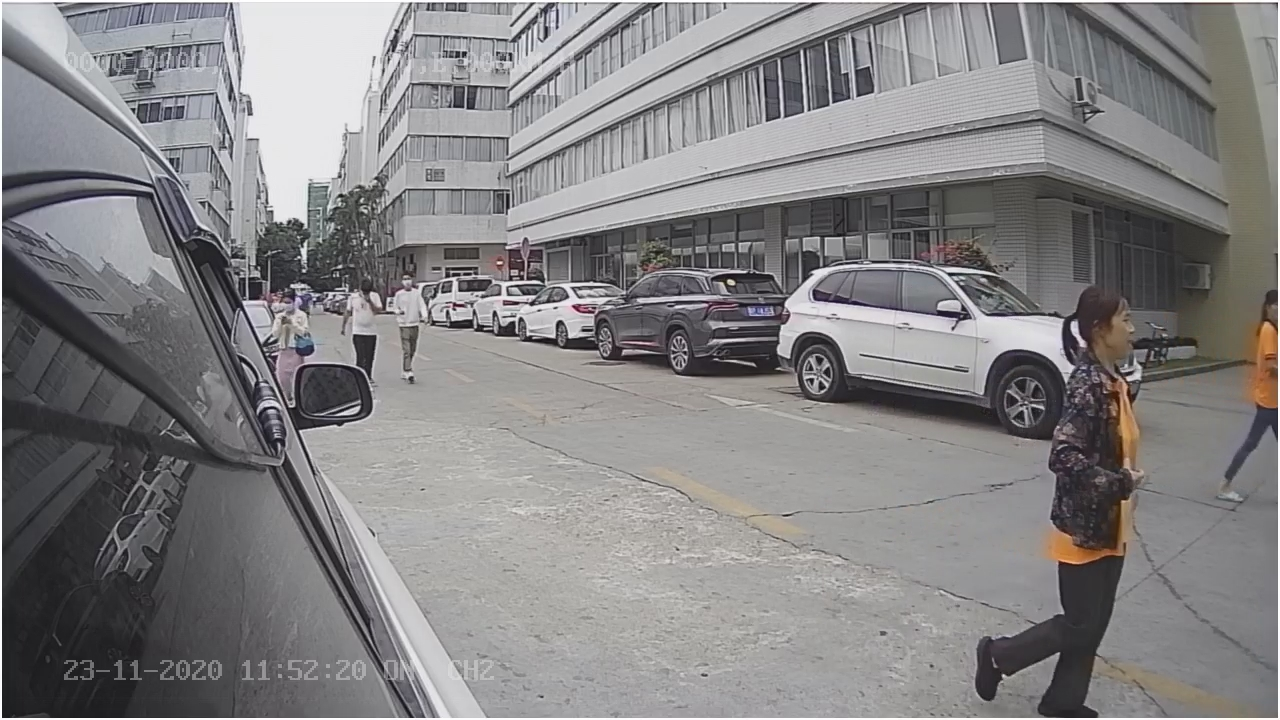person: (1036, 282, 1146, 717)
